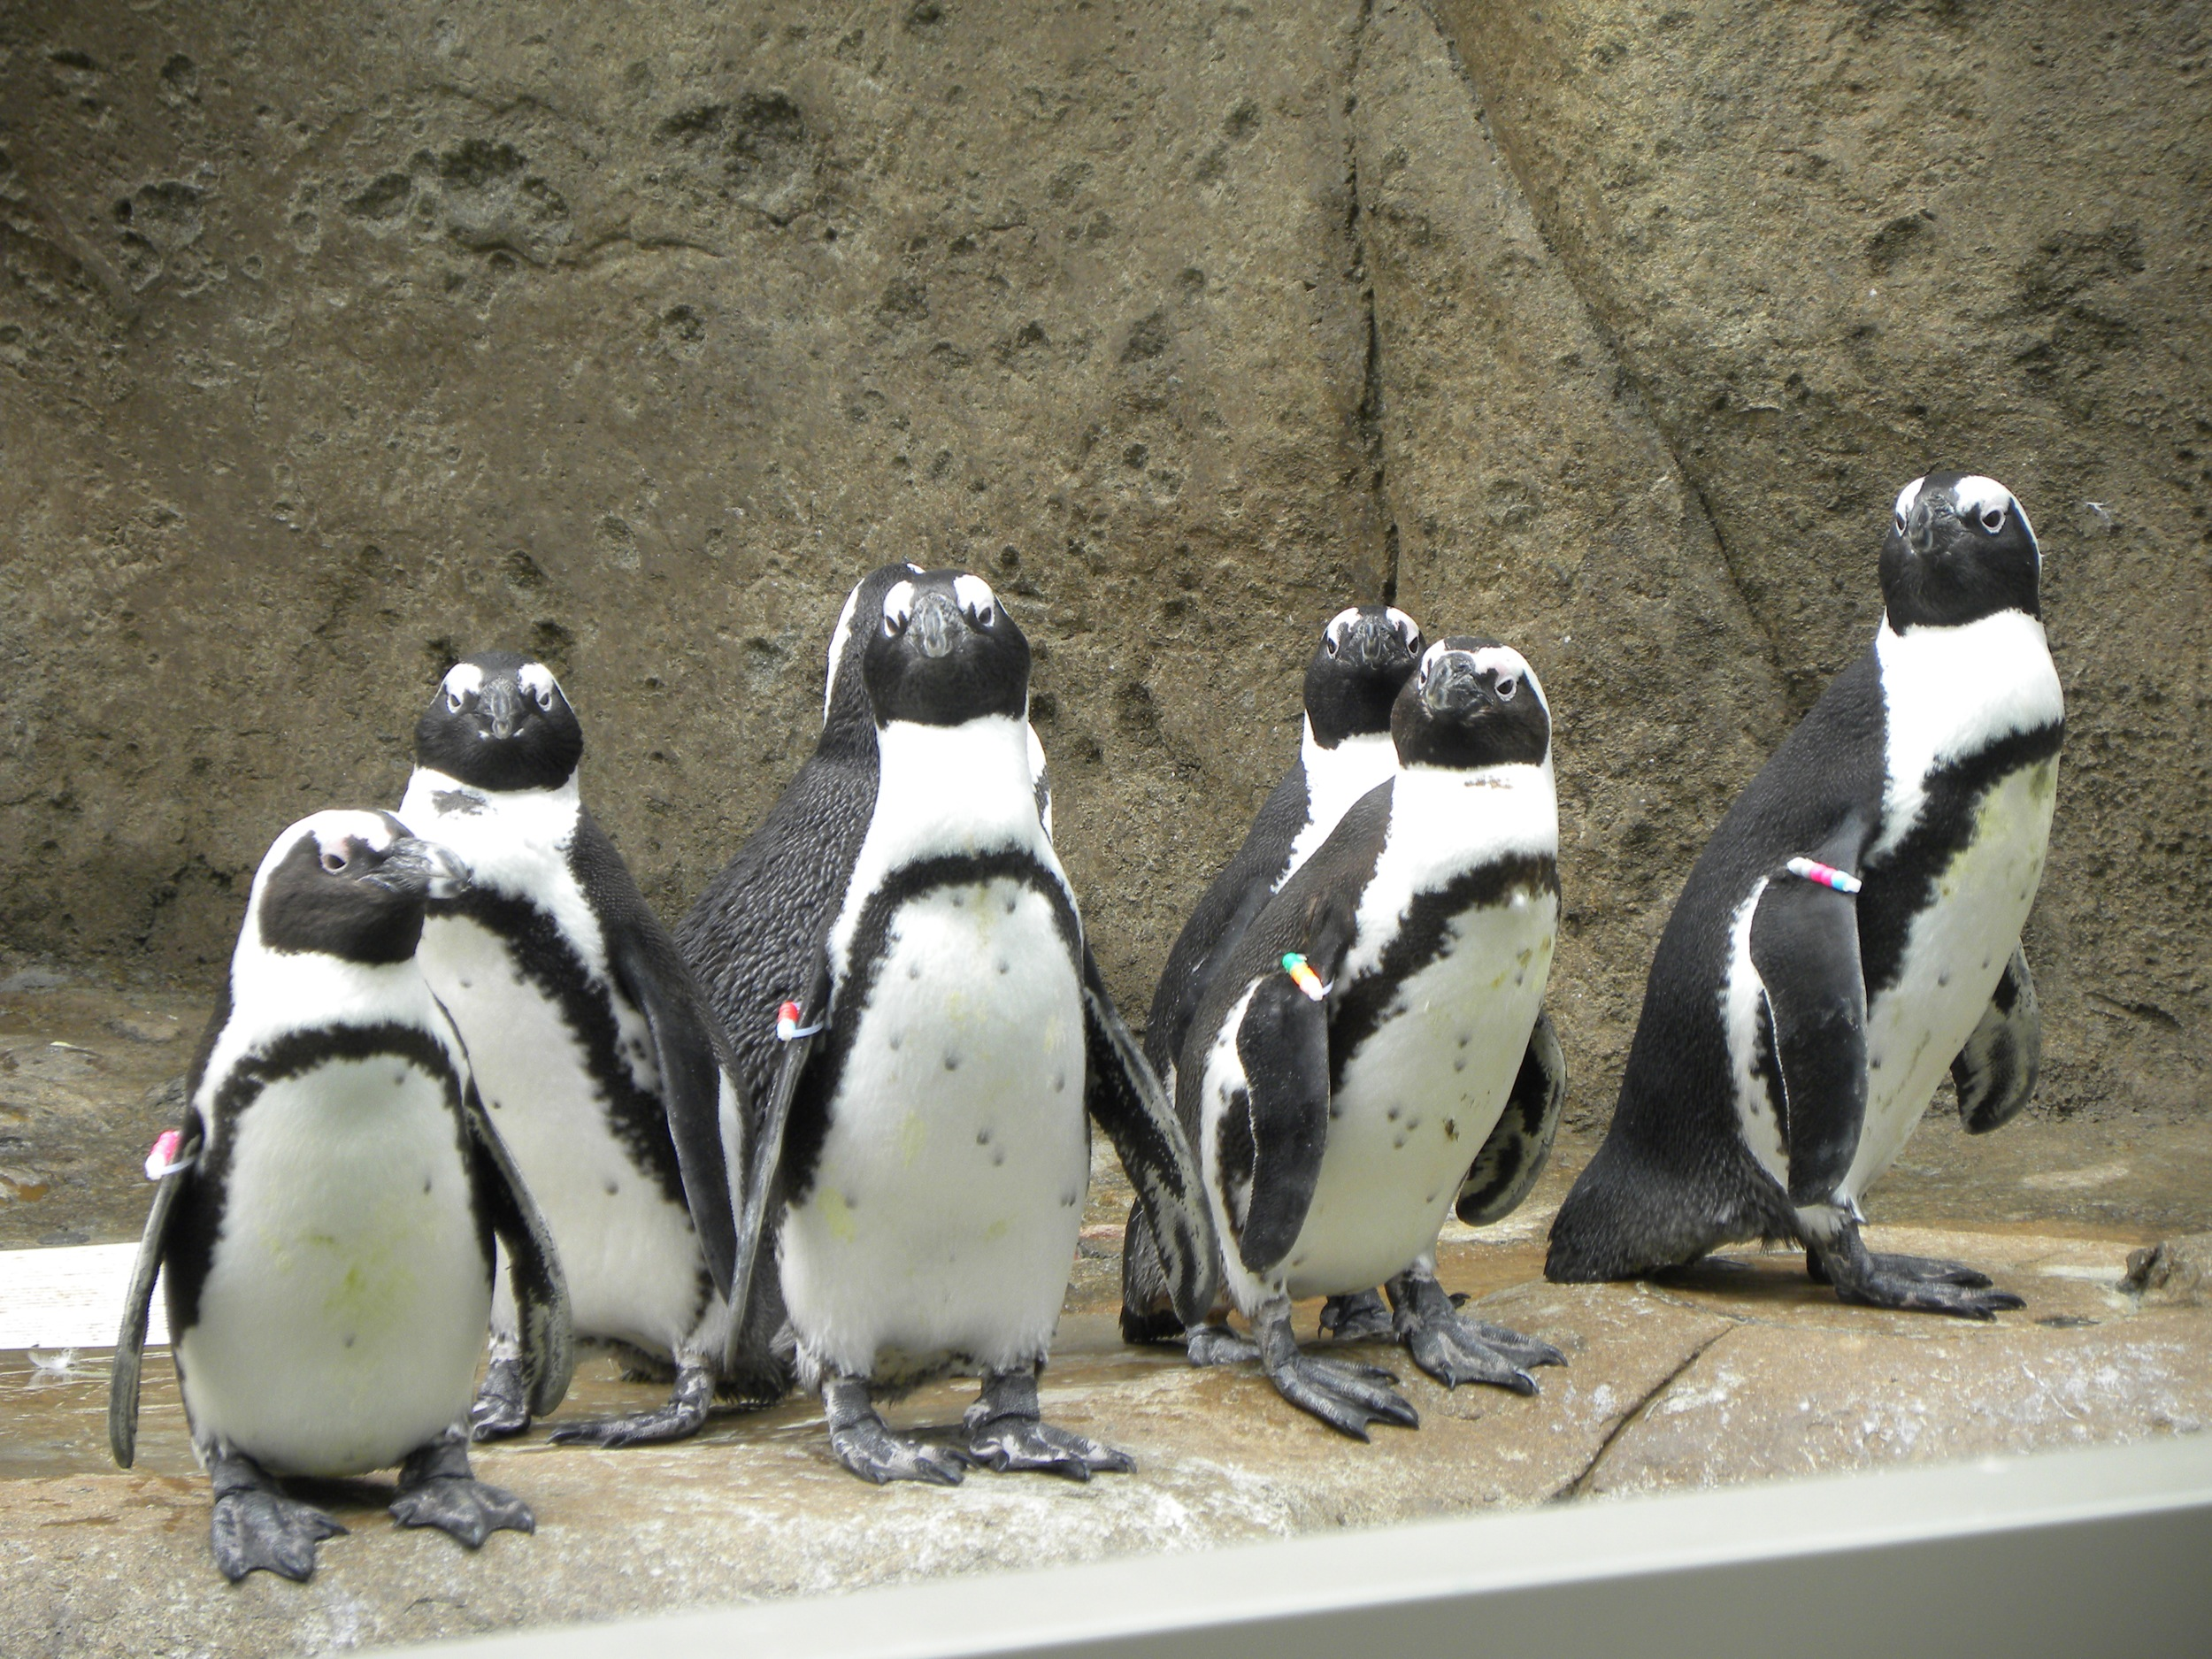penguin: (1578, 471, 2073, 1359), (752, 561, 1207, 1492), (92, 805, 570, 1595), (1219, 631, 1578, 1476)
